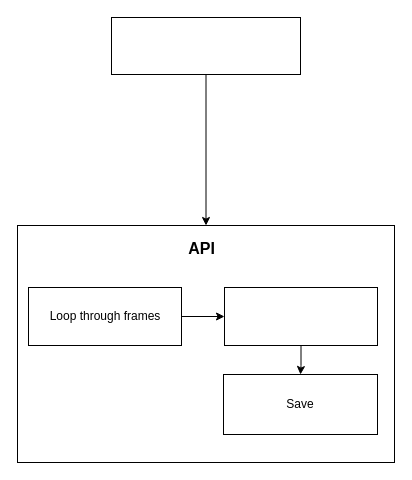
Image size: 412x480. Some labels were removed from this diagram. The centre of each missing label's shape, as x and y in pixels:
"Apply function" goes at (x=301, y=316).
"Open file stream" goes at (x=205, y=45).
